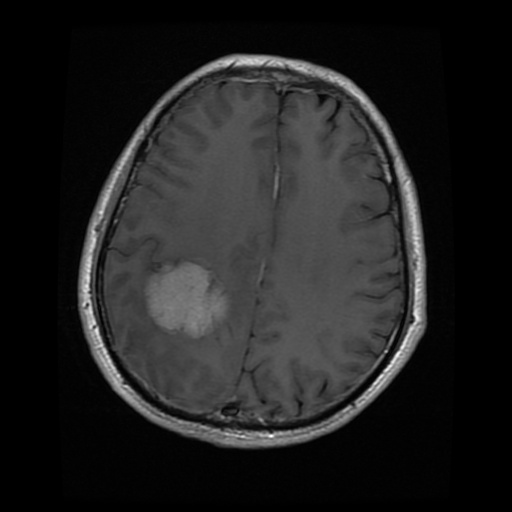meningioma: (151, 260, 227, 336)
